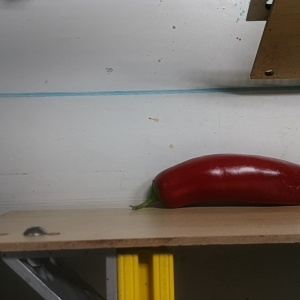Cut Point: (143, 171, 178, 208)
